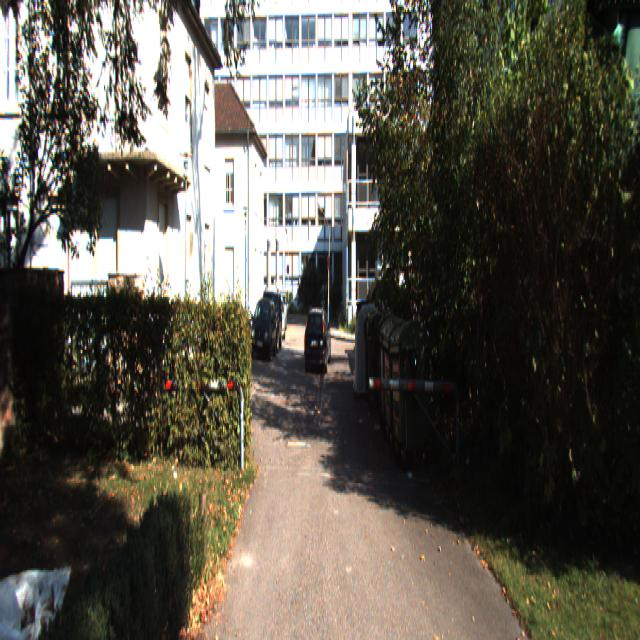Car: (303, 306, 333, 373), (250, 297, 278, 358), (259, 291, 283, 358)
